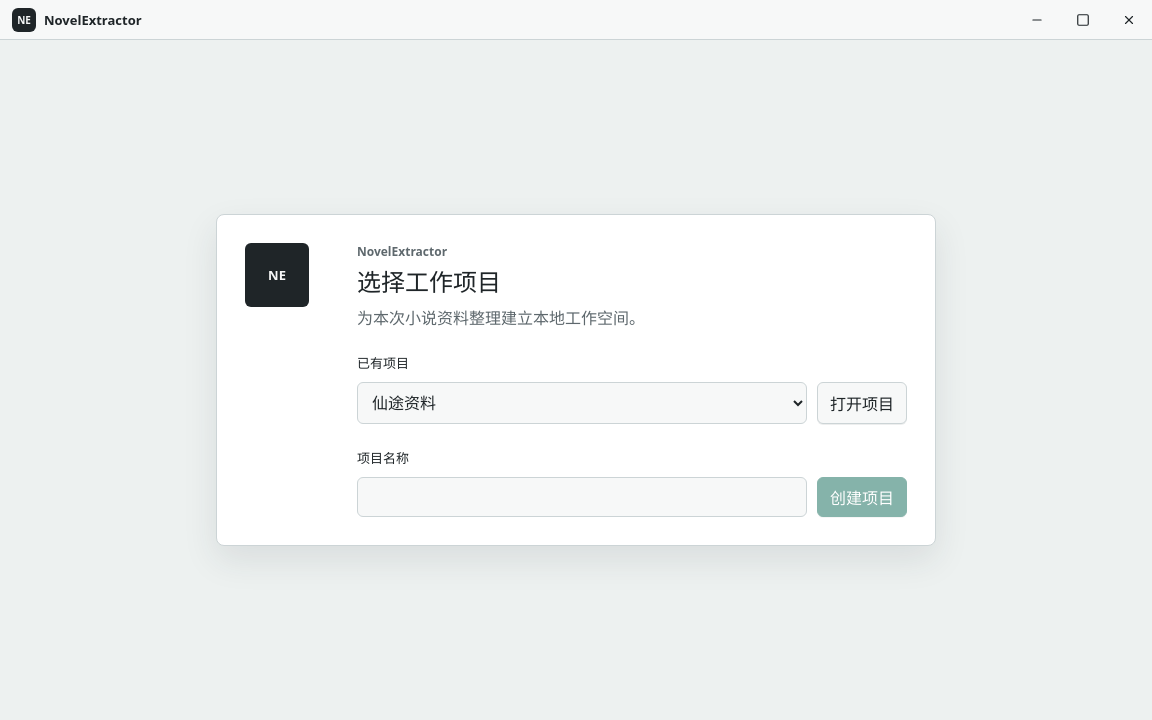
Test: desktop workbench shell › loads persisted local projects before creating a new one
The width and height of the screenshot is (1152, 720).
Expected: the heading "选择工作项目" is shown, left=357, top=265, right=501, bottom=298
Select "仙途资料" in the dropdown labelled "已有项目" at (582, 403), box left=357, top=382, right=807, bottom=424
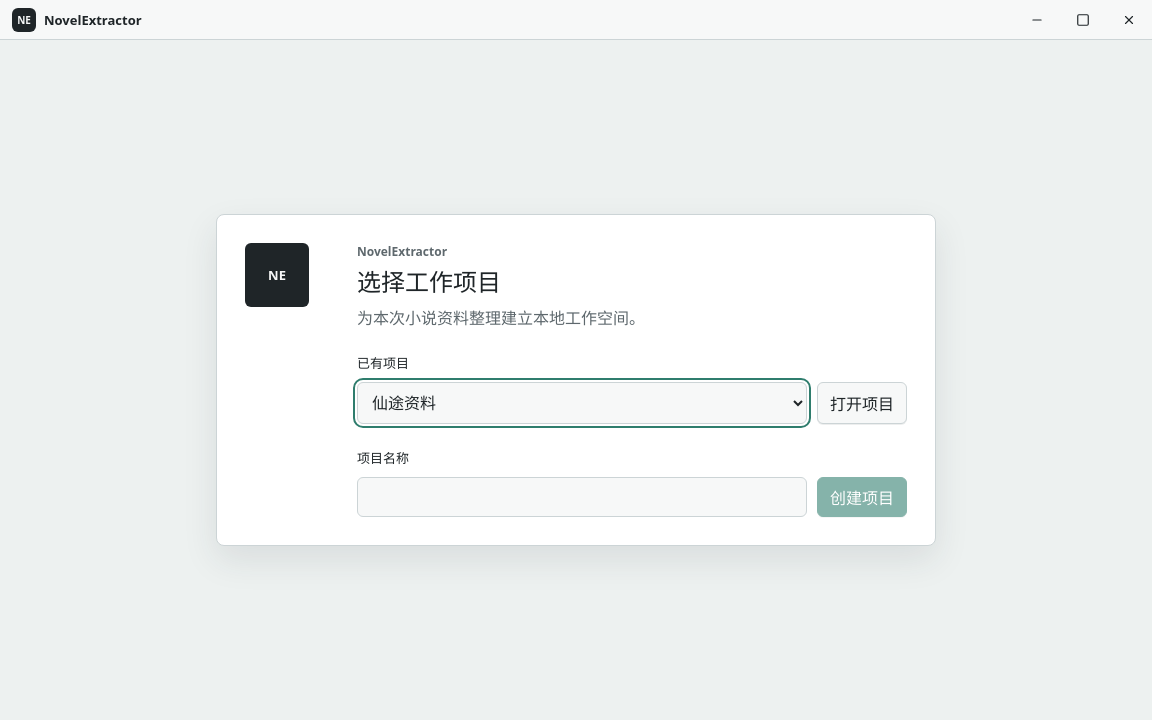
Click the button "打开项目" at (862, 403), box left=817, top=382, right=907, bottom=424
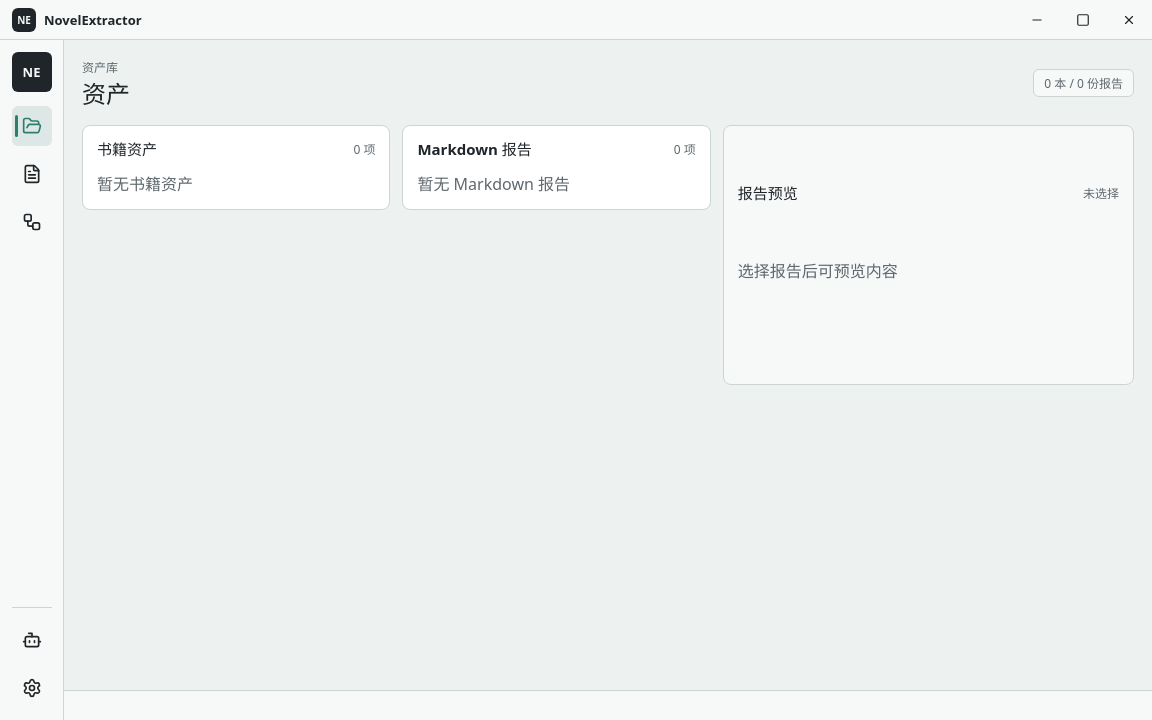
Now the heading "资产" is shown, box left=82, top=80, right=130, bottom=109
